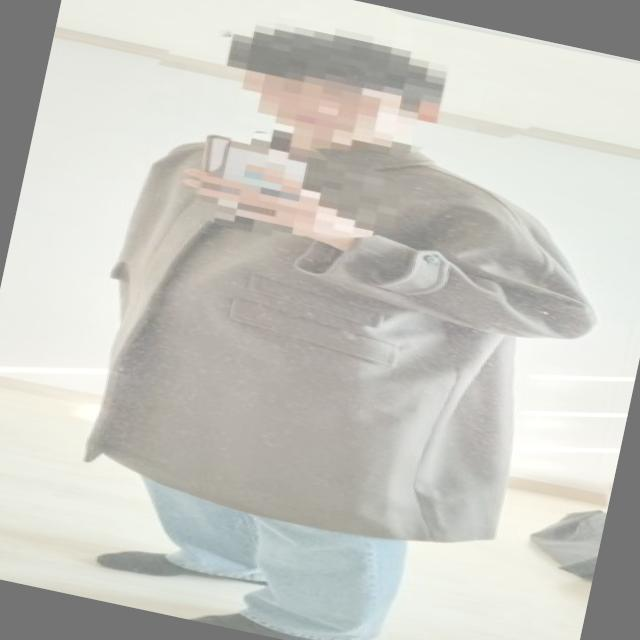coat: (71, 88, 616, 574)
denimpants: (113, 470, 400, 640)
